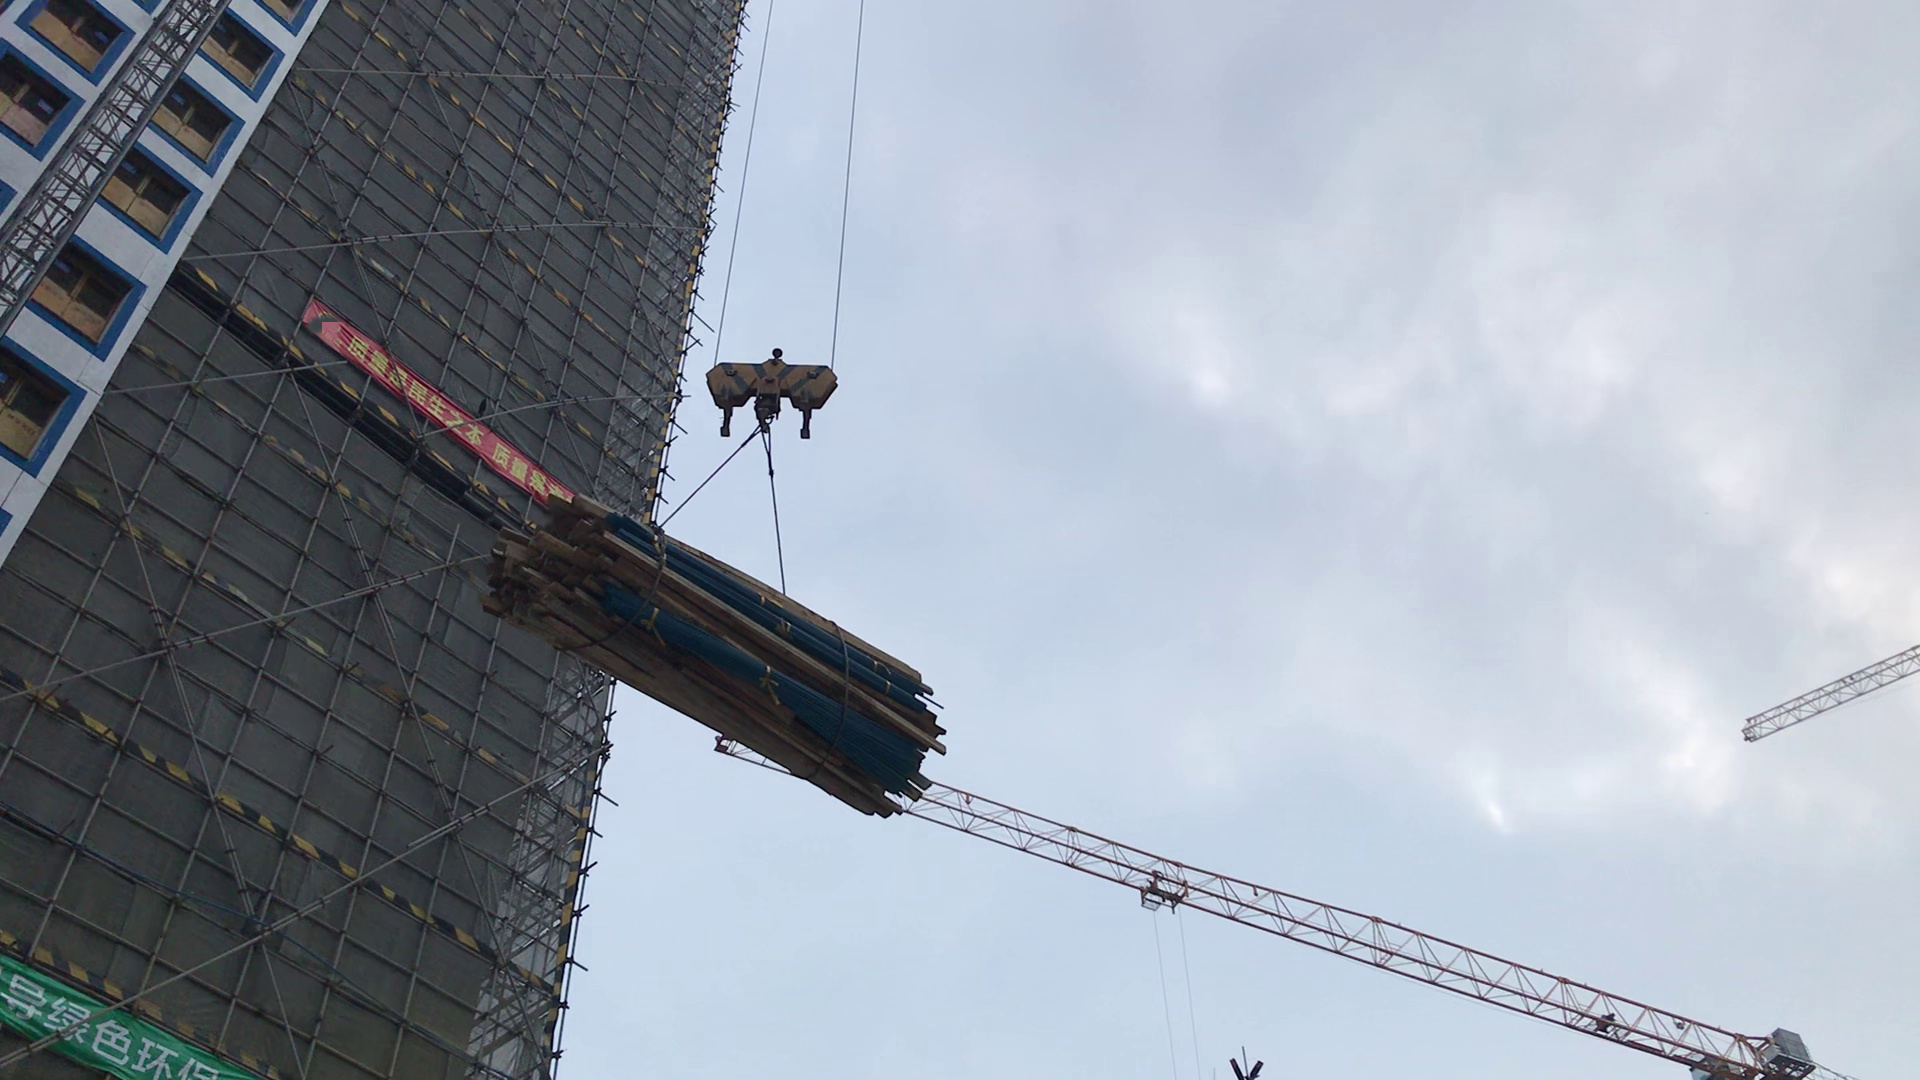hook: (694, 334, 869, 468)
slogan: (301, 295, 576, 504), (1, 922, 276, 1080)
wood: (468, 483, 971, 833)
